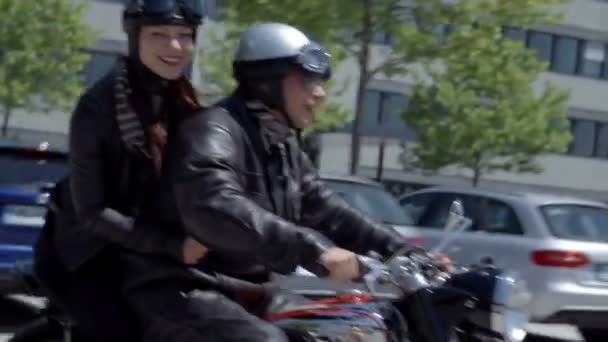with_helmet: (233, 19, 336, 107)
